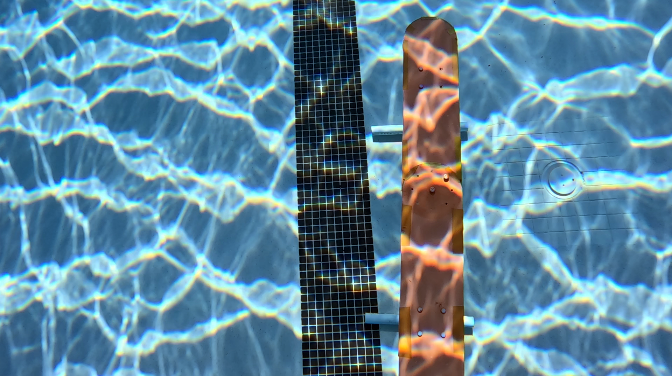pathmarker: (399, 17, 462, 375)
